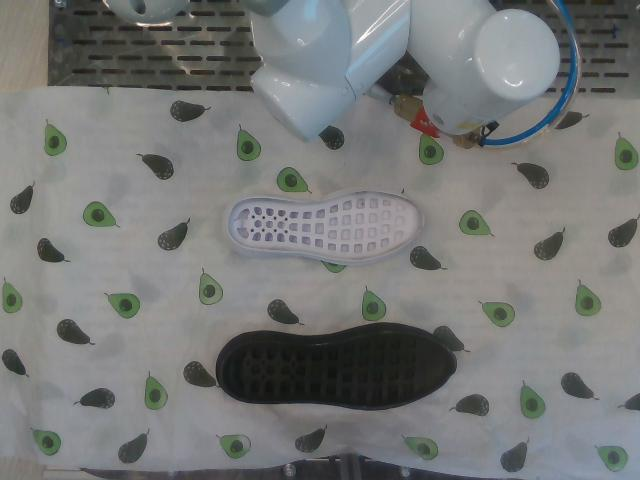shoes: (222, 332, 456, 406), (228, 191, 424, 260)
